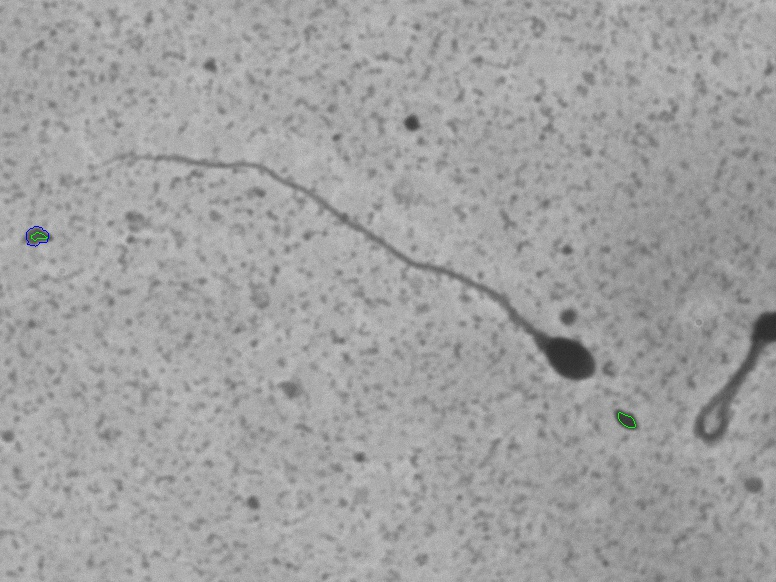Normal: (114, 125, 609, 435)
